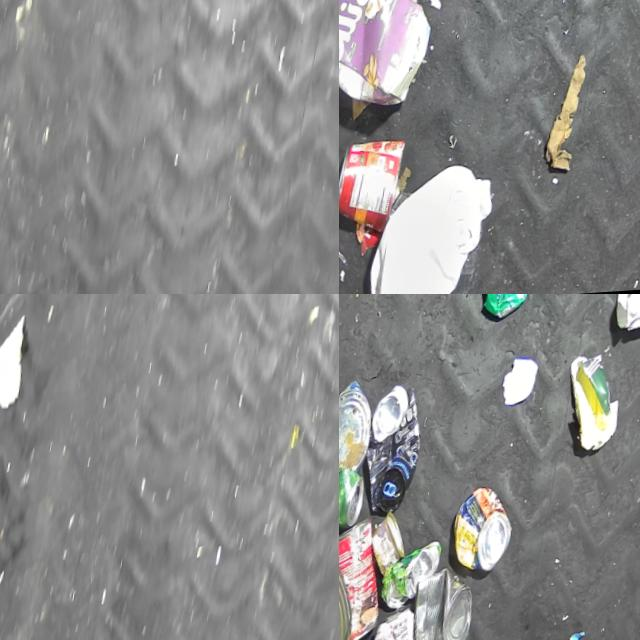can: (358, 384, 436, 521), (339, 516, 402, 640), (339, 134, 413, 239), (451, 487, 526, 581), (406, 567, 487, 640), (385, 540, 449, 619), (339, 379, 384, 476), (371, 514, 418, 583), (339, 464, 375, 540), (339, 560, 371, 640), (368, 607, 438, 640), (481, 294, 546, 327)
milk_jug: (372, 156, 508, 294)
non_white_jug: (339, 0, 446, 121)
